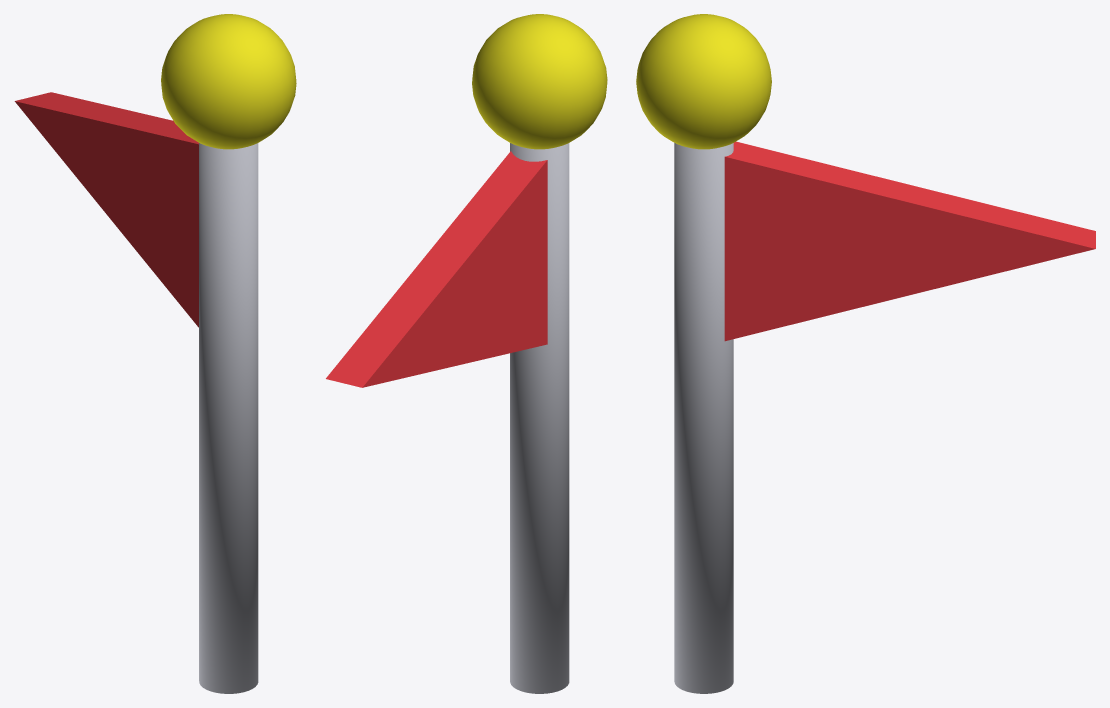
The model's file is finish_flag.glb.
3 renders of one model, left to right at view 1: azimuth 30°, elevation 25°; view 2: azimuth 150°, elevation 25°; view 3: azimuth 270°, elevation 25°, orthographic.
Parts seen in each view (by area): view 1: Cylinder, Cube, Sphere; view 2: Cube, Cylinder, Sphere; view 3: Cube, Cylinder, Sphere.
Part boxes in pixels (x1=…): Cylinder: x1=199, y1=143, x2=258, y2=693; Cube: x1=14, y1=92, x2=198, y2=327; Sphere: x1=161, y1=14, x2=296, y2=149; Cube: x1=326, y1=151, x2=547, y2=387; Cylinder: x1=510, y1=143, x2=569, y2=693; Sphere: x1=472, y1=14, x2=607, y2=149; Cube: x1=724, y1=141, x2=1095, y2=341; Cylinder: x1=674, y1=143, x2=733, y2=693; Sphere: x1=636, y1=14, x2=771, y2=149.
Size of the model in its own units: 1.6 by 8.59 by 5.41.
